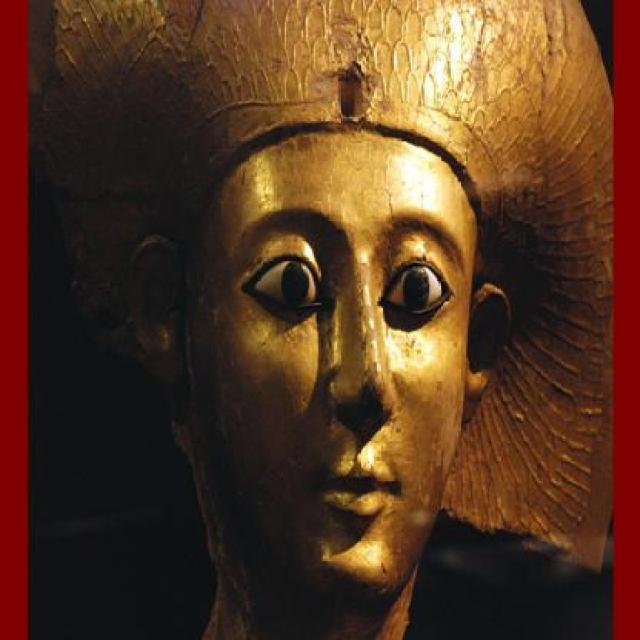Person: (26, 0, 618, 638)
